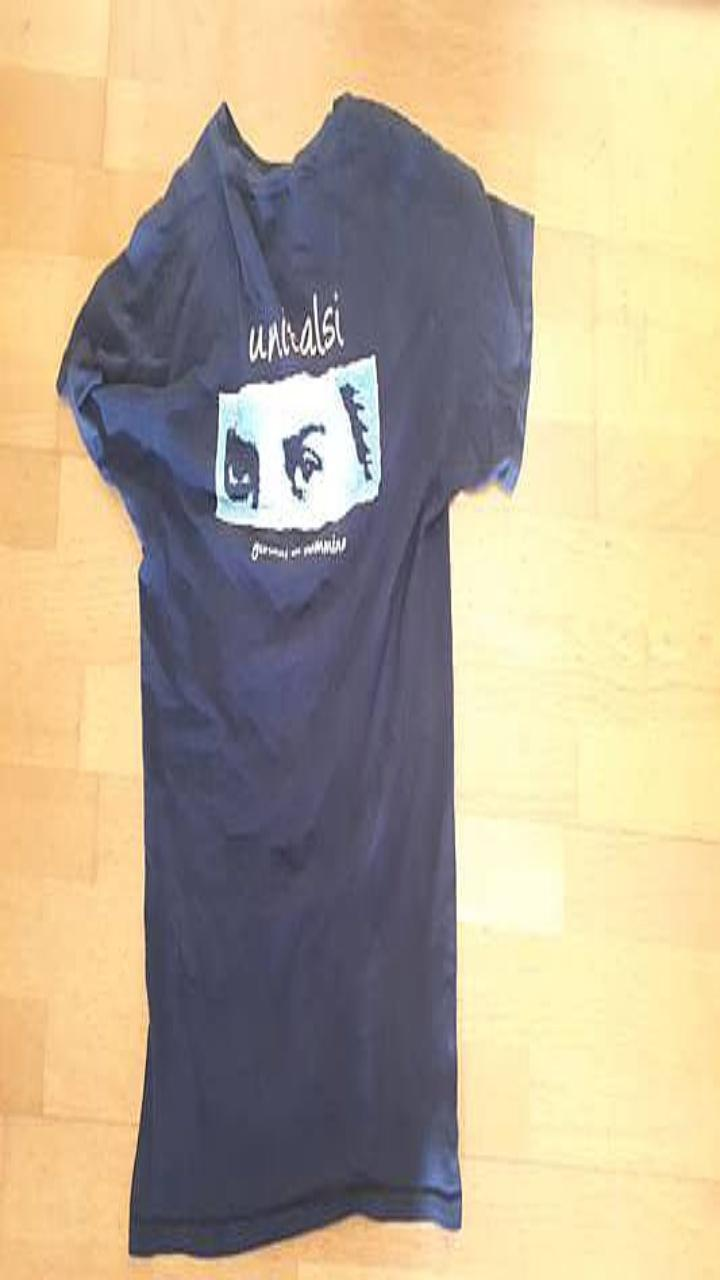T-Shirt: (56, 92, 533, 1254)
